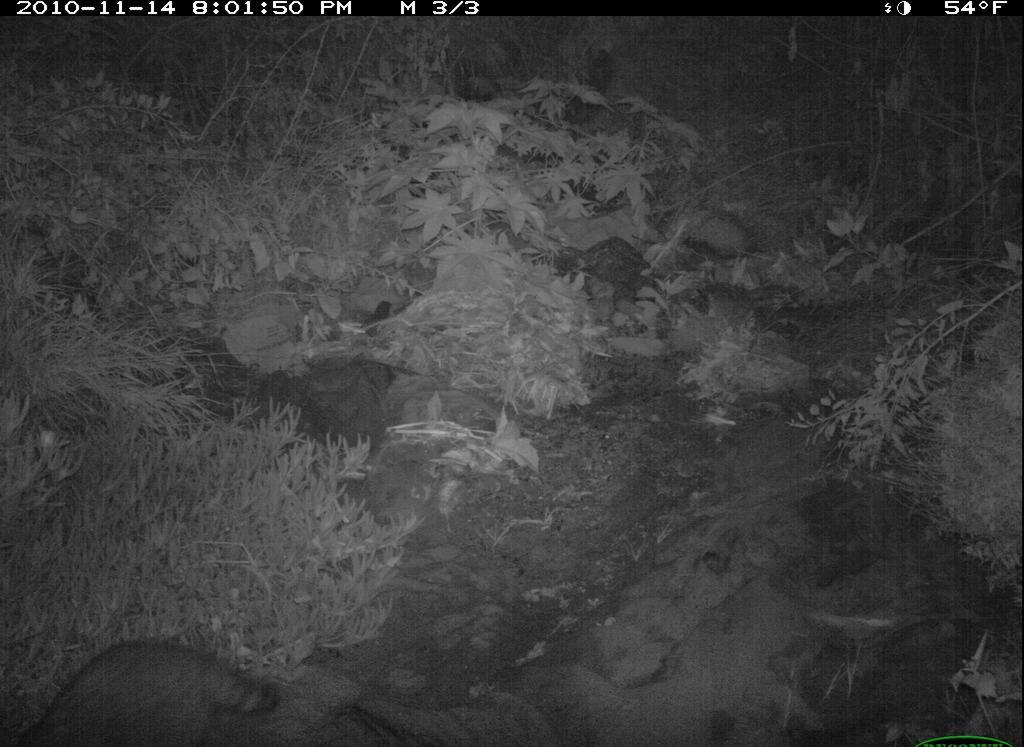raccoon: (4, 624, 274, 734)
